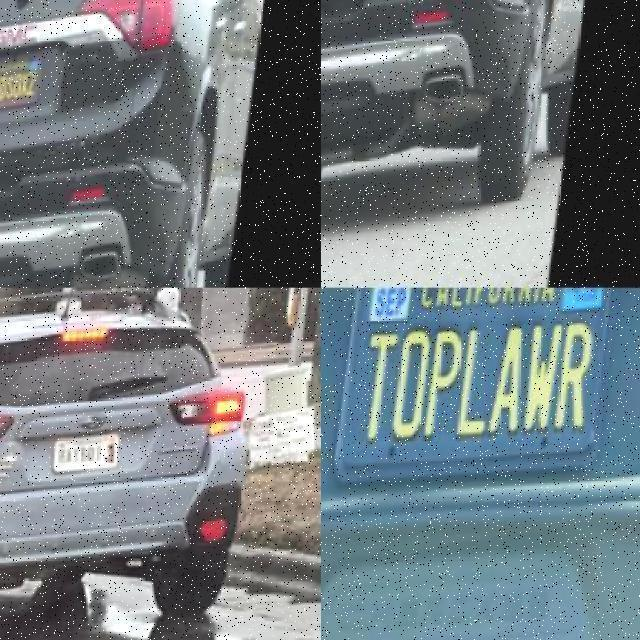license_plate: (336, 288, 632, 497), (0, 58, 44, 120), (58, 439, 126, 478), (323, 0, 389, 26)
